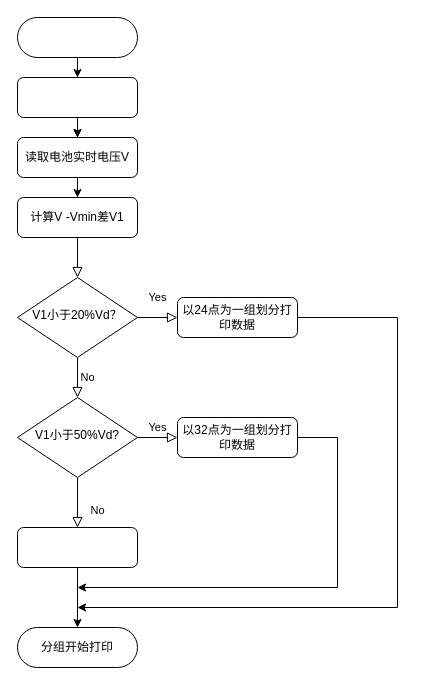
The diagram is 423 pixels wide and 685 high, and some of its shapes have lost their labels. Here are the shapes that lost their labels. From the top down, the centre of each, then its label:
At point 77,37: "电池最大电压Vmax 电池最小电压Vmin".
At point 77,97: "计算Vmax -Vmin差Vd".
At point 77,547: "以48点为一组数据划分打印数据".
